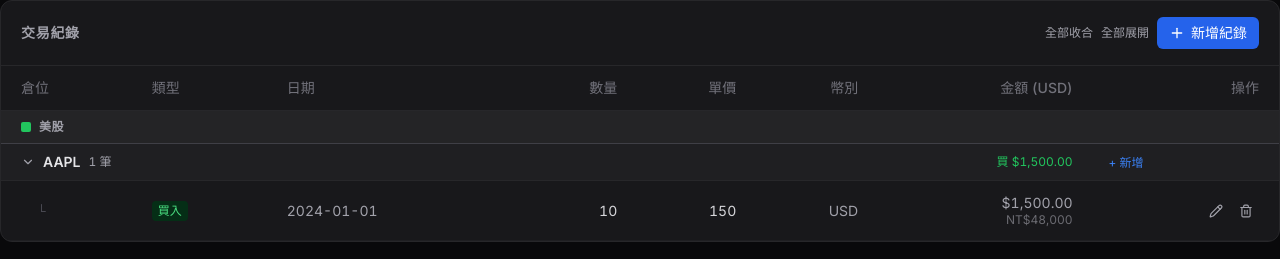
Test: LotTable › 全部展開 shows all transaction rows
Step 1. Click the button "全部收合" → (1069, 33), box [1045,25,1093,41]
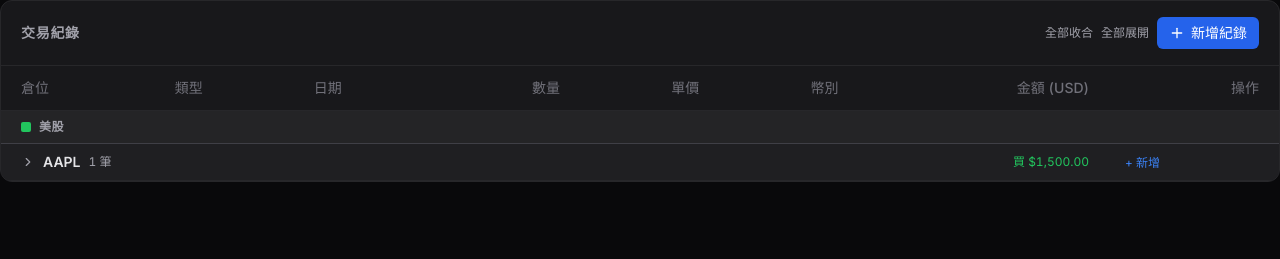
Result: the text "買入" is gone
Step 2. Click the button "全部展開" → (1125, 33), box [1101,25,1149,41]
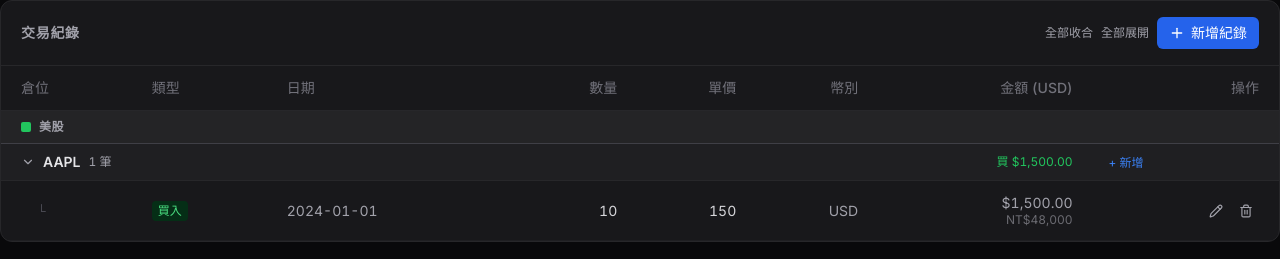
Result: the text "買入" is shown at [152,201,188,221]
